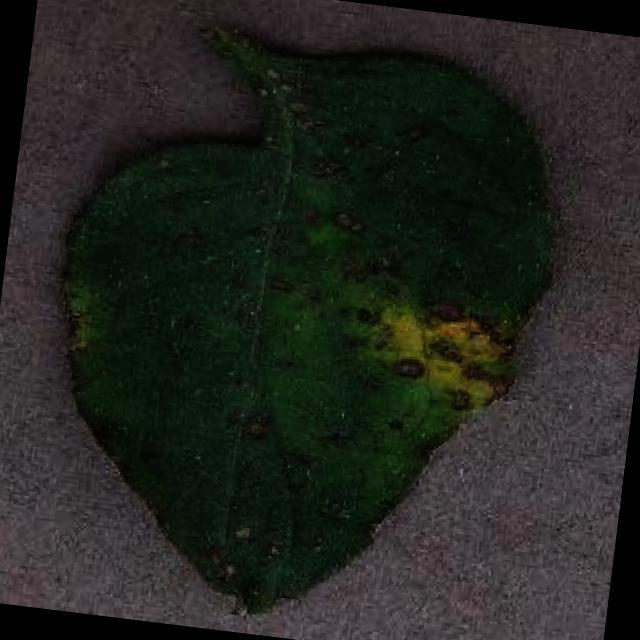Tomato bacterial spot leaf: (11, 7, 584, 640)
